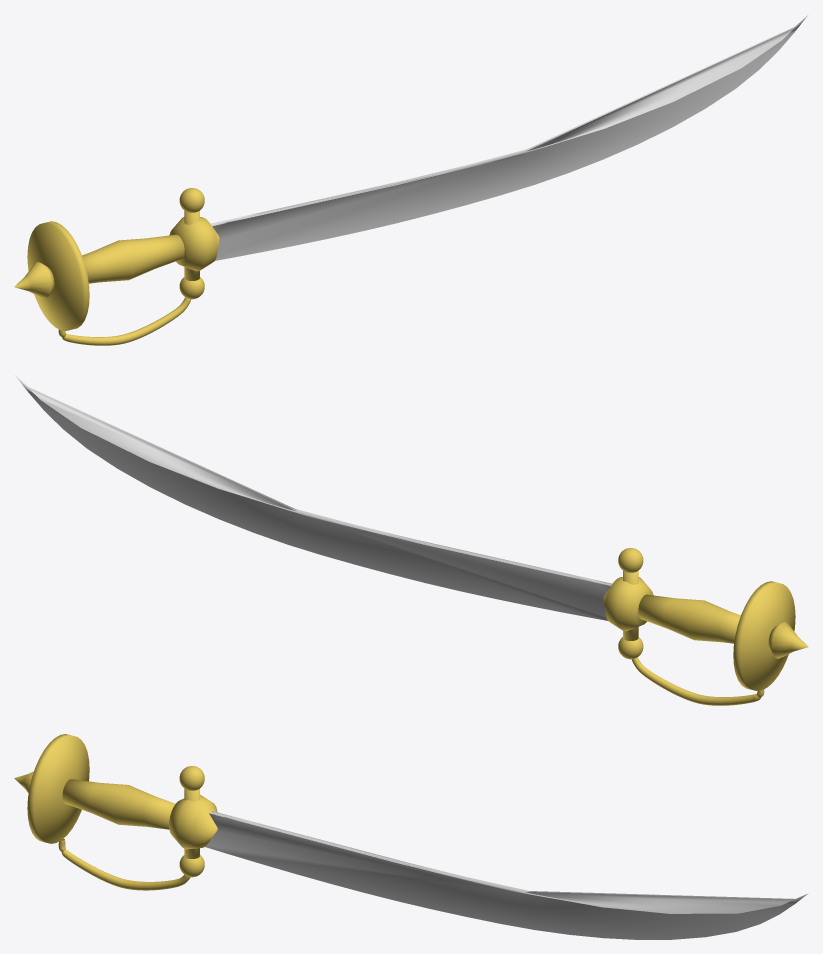
The model's file is sword.glb.
The picture shows the model from 3 angles, top to bottom: view 1: azimuth 30°, elevation 25°; view 2: azimuth 150°, elevation 25°; view 3: azimuth 330°, elevation 25°; orthographic projection.
Parts seen in each view (by area): view 1: Blade, Pommel, Grip, Guard, KnuckleBow, Spike; view 2: Blade, Pommel, Grip, Guard, KnuckleBow, Spike; view 3: Blade, Pommel, Grip, Guard, KnuckleBow, QuillonTip1, QuillonTip2.
Part boxes in pixels (left/top/right/bottom): Blade: left=210, top=15, right=807, bottom=260; Pommel: left=27, top=221, right=89, bottom=330; Grip: left=82, top=234, right=184, bottom=283; Guard: left=169, top=217, right=219, bottom=271; KnuckleBow: left=58, top=297, right=191, bottom=345; Spike: left=14, top=262, right=54, bottom=298; Blade: left=15, top=375, right=612, bottom=620; Pommel: left=733, top=581, right=795, bottom=690; Grip: left=638, top=594, right=740, bottom=643; Guard: left=603, top=577, right=653, bottom=631; KnuckleBow: left=631, top=657, right=764, bottom=705; Spike: left=768, top=622, right=808, bottom=658; Blade: left=205, top=811, right=808, bottom=939; Pommel: left=27, top=734, right=89, bottom=843; Grip: left=62, top=779, right=175, bottom=829; Guard: left=169, top=794, right=217, bottom=849; KnuckleBow: left=58, top=839, right=190, bottom=890; QuillonTip1: left=179, top=766, right=204, bottom=790; QuillonTip2: left=179, top=855, right=204, bottom=877.
Size of the model in its own units: 5.8 by 1.13 by 0.7.
